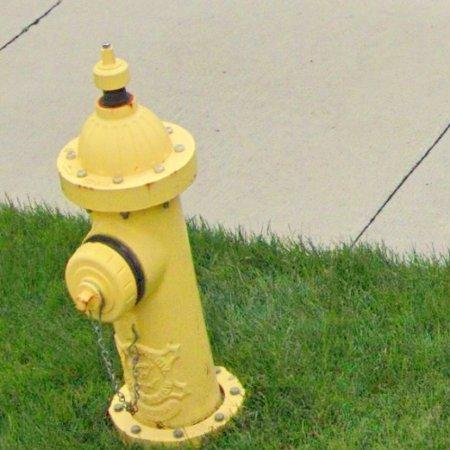a fire hydrant: (57, 43, 245, 445)
